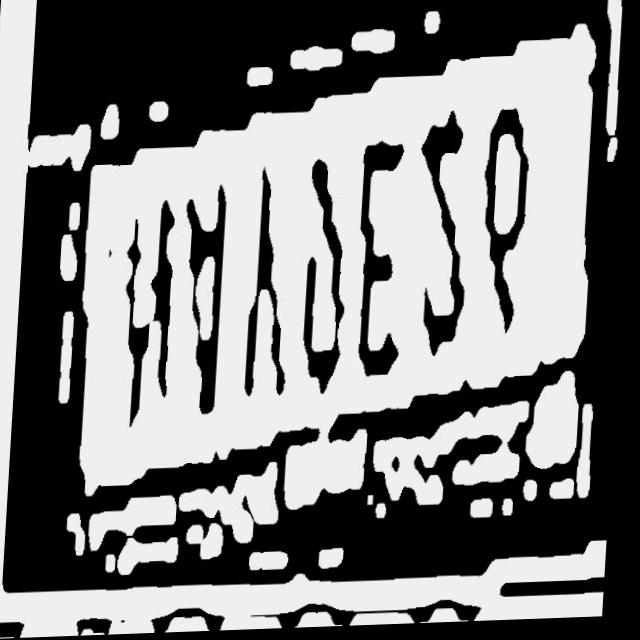2: (414, 117, 481, 364)
6: (478, 108, 542, 347)
9: (297, 154, 358, 402)
a: (178, 190, 240, 418)
e: (353, 136, 414, 387)
n: (117, 201, 184, 431)
y: (241, 170, 301, 409)
